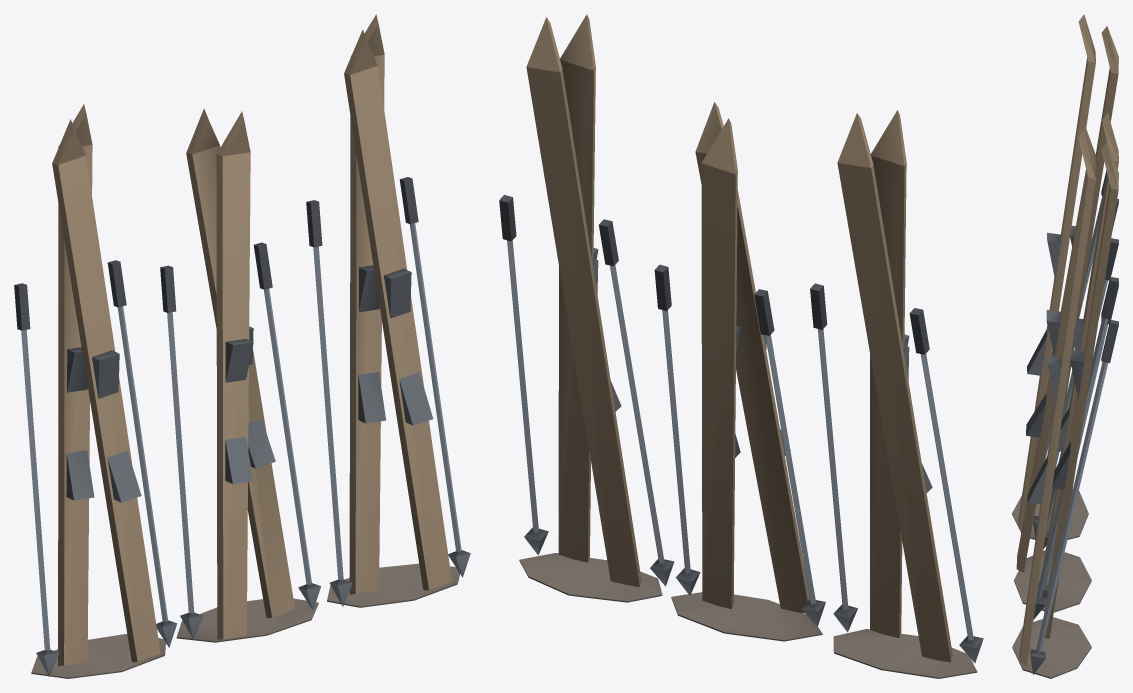
File: skis.glb
The picture shows the model from 3 angles, left to right: view 1: azimuth 30°, elevation 25°; view 2: azimuth 150°, elevation 25°; view 3: azimuth 270°, elevation 25°; orthographic projection. The views are drawn at different scales.
Visible parts, largest first — view 1: skis; view 2: skis; view 3: skis.
Boxes of the visible parts, x1,y1,x2,y2 form: skis: (14, 14, 470, 678); skis: (499, 14, 983, 678); skis: (1012, 14, 1118, 678).
Size of the model in its own units: 1.47 by 1.79 by 0.3387.
